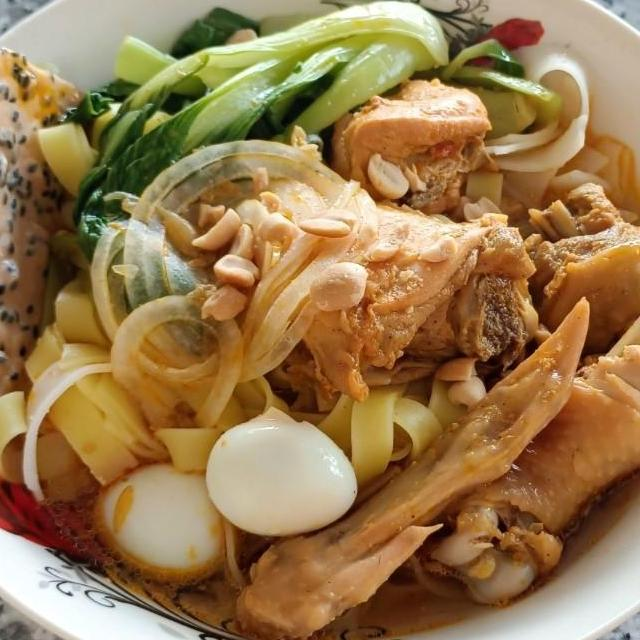banh da: (0, 0, 92, 537)
mi: (0, 256, 291, 510), (273, 352, 480, 498), (26, 90, 181, 214)
thit ga: (230, 287, 598, 640), (423, 288, 640, 610), (277, 176, 559, 404), (300, 68, 499, 224), (507, 175, 640, 360)
trung: (204, 408, 359, 542), (87, 456, 241, 586)
